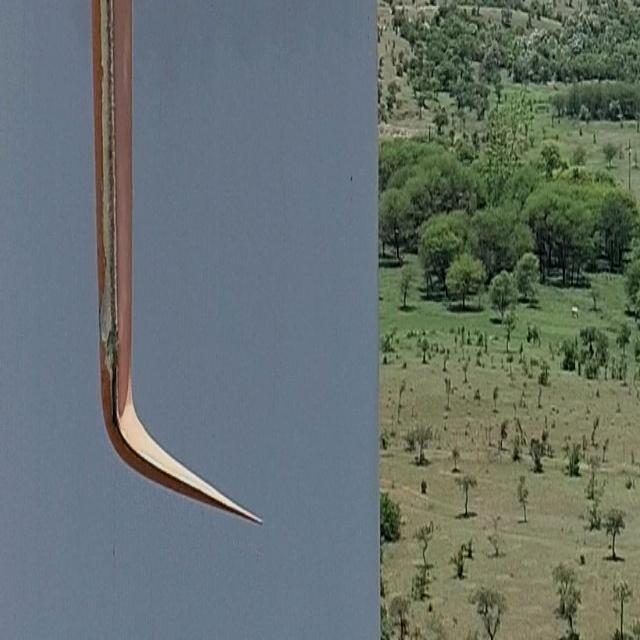EROSION: (96, 8, 123, 432)
